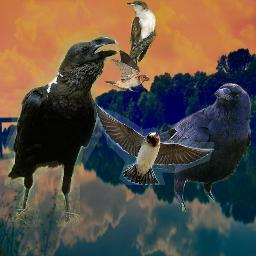Crow: (4, 32, 123, 227), (123, 83, 251, 213)
Cuckoo: (120, 0, 157, 91)
Swallow: (94, 103, 214, 185), (104, 50, 150, 92)
